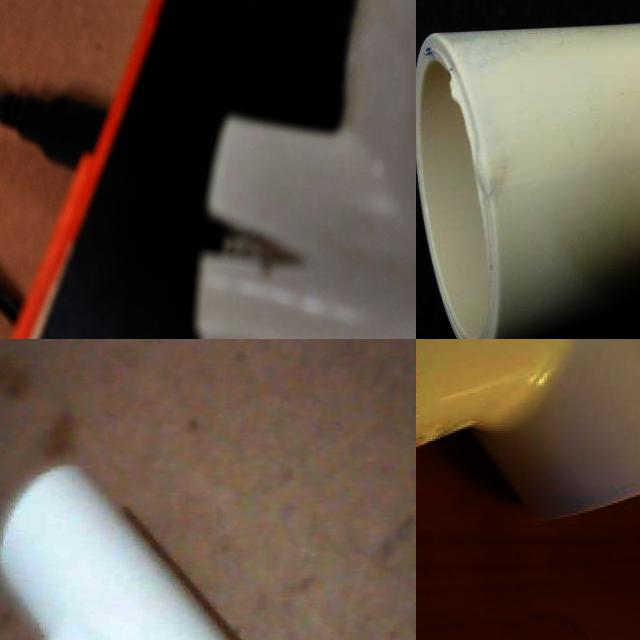Defective: (67, 0, 179, 21), (250, 277, 276, 339)
L Joint: (31, 0, 367, 339)
T Joint: (416, 23, 640, 339), (0, 462, 242, 640), (416, 339, 640, 523)
